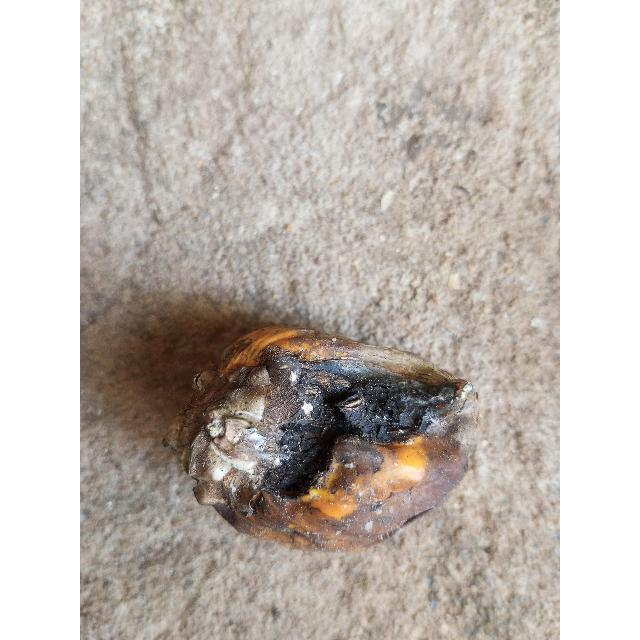damaged: (182, 330, 475, 555)
